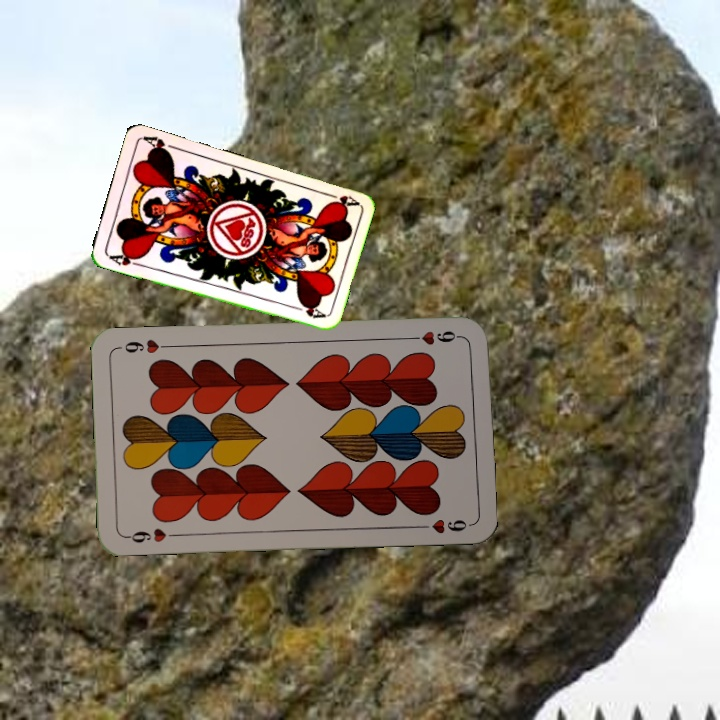H9: (122, 524, 181, 546), (405, 326, 464, 348)
HA: (320, 188, 360, 211), (105, 248, 145, 269)
